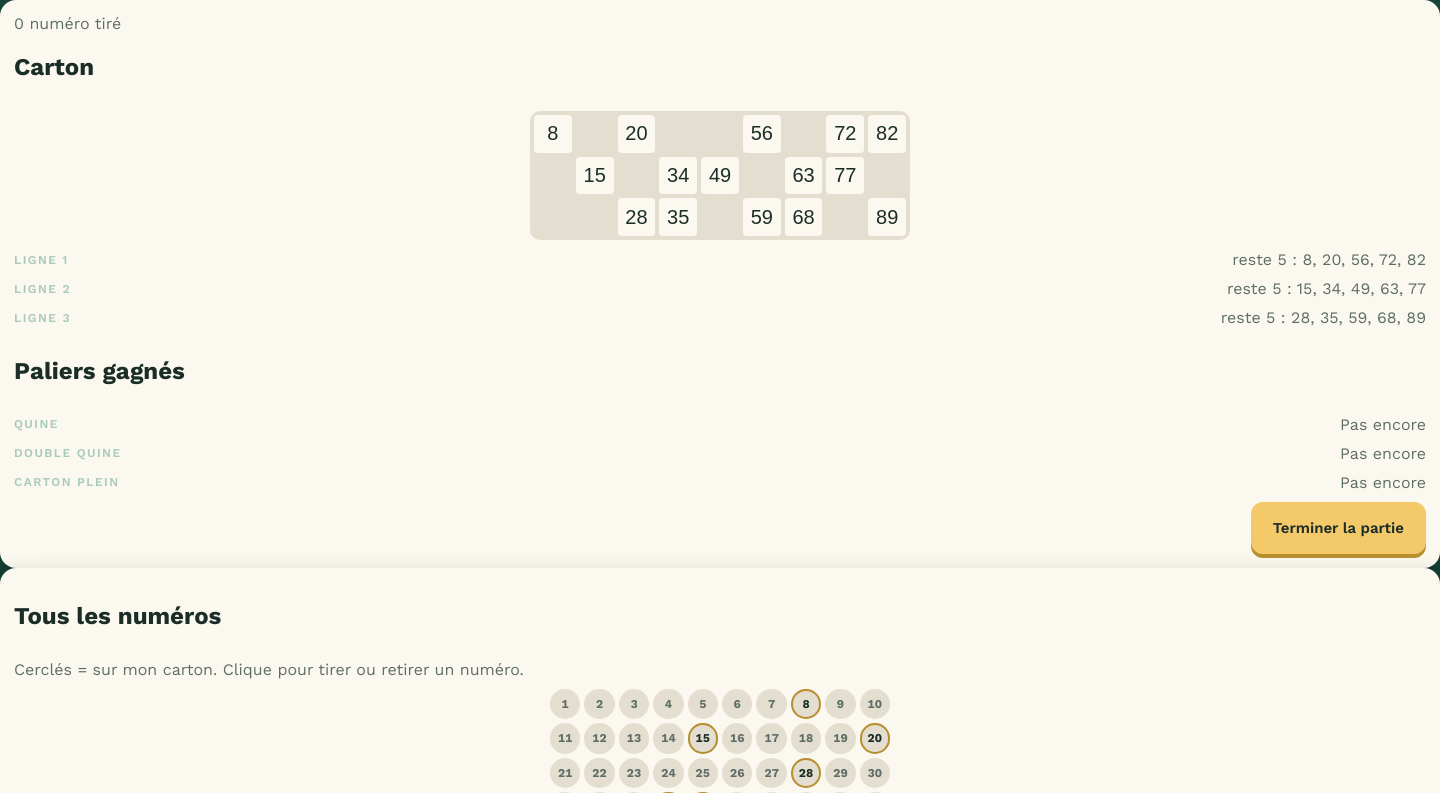
it: FeuilleBingo › tire un numéro présent sur le carton et met à jour la ligne
The image size is (1440, 793).
Click the button with class "bingo-ball" showing "8" at coordinates (806, 704), box left=791, top=689, right=821, bottom=719
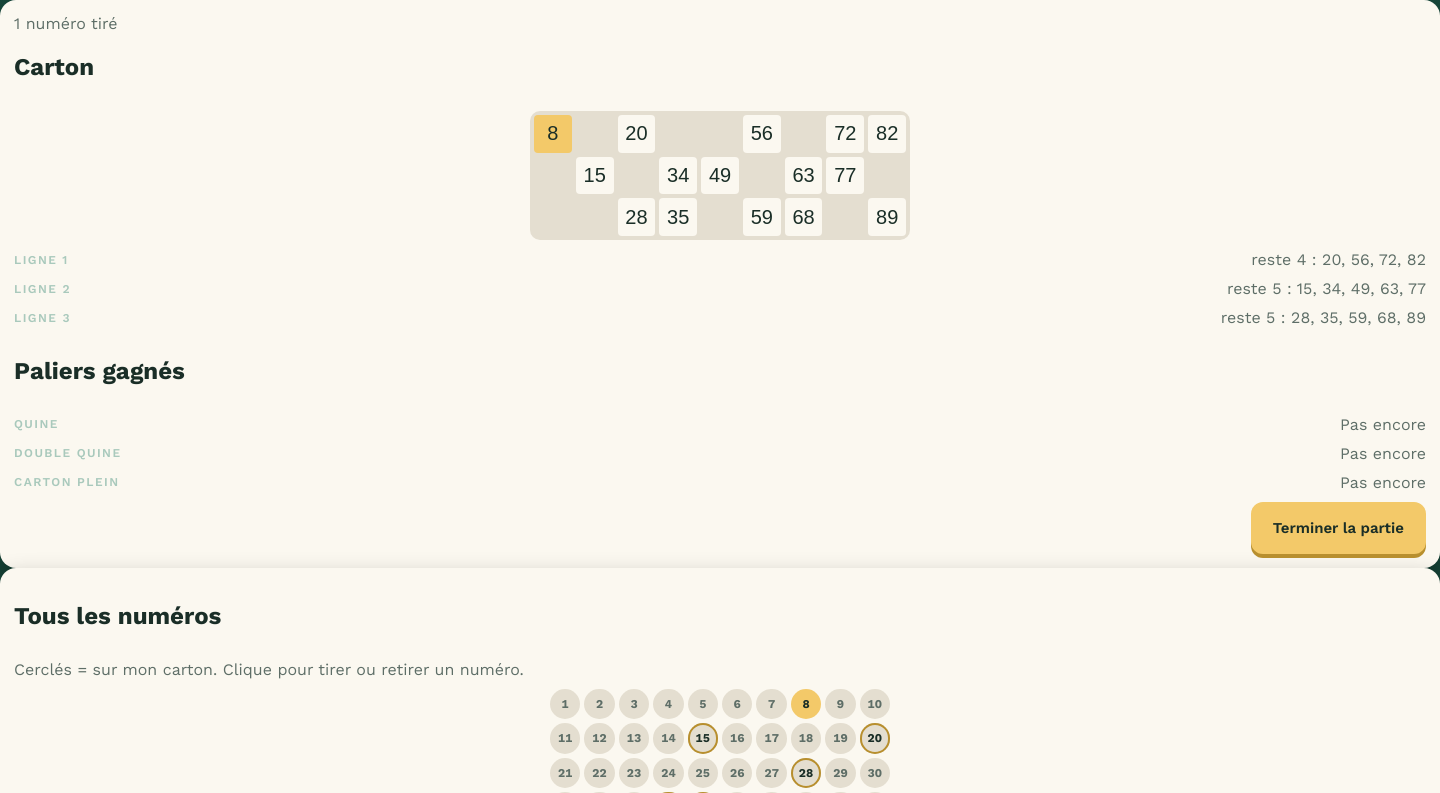
Expected: the element showing "Ligne 1 reste 4 : 20, 56, 72, 82" is shown, left=14, top=250, right=1426, bottom=269
